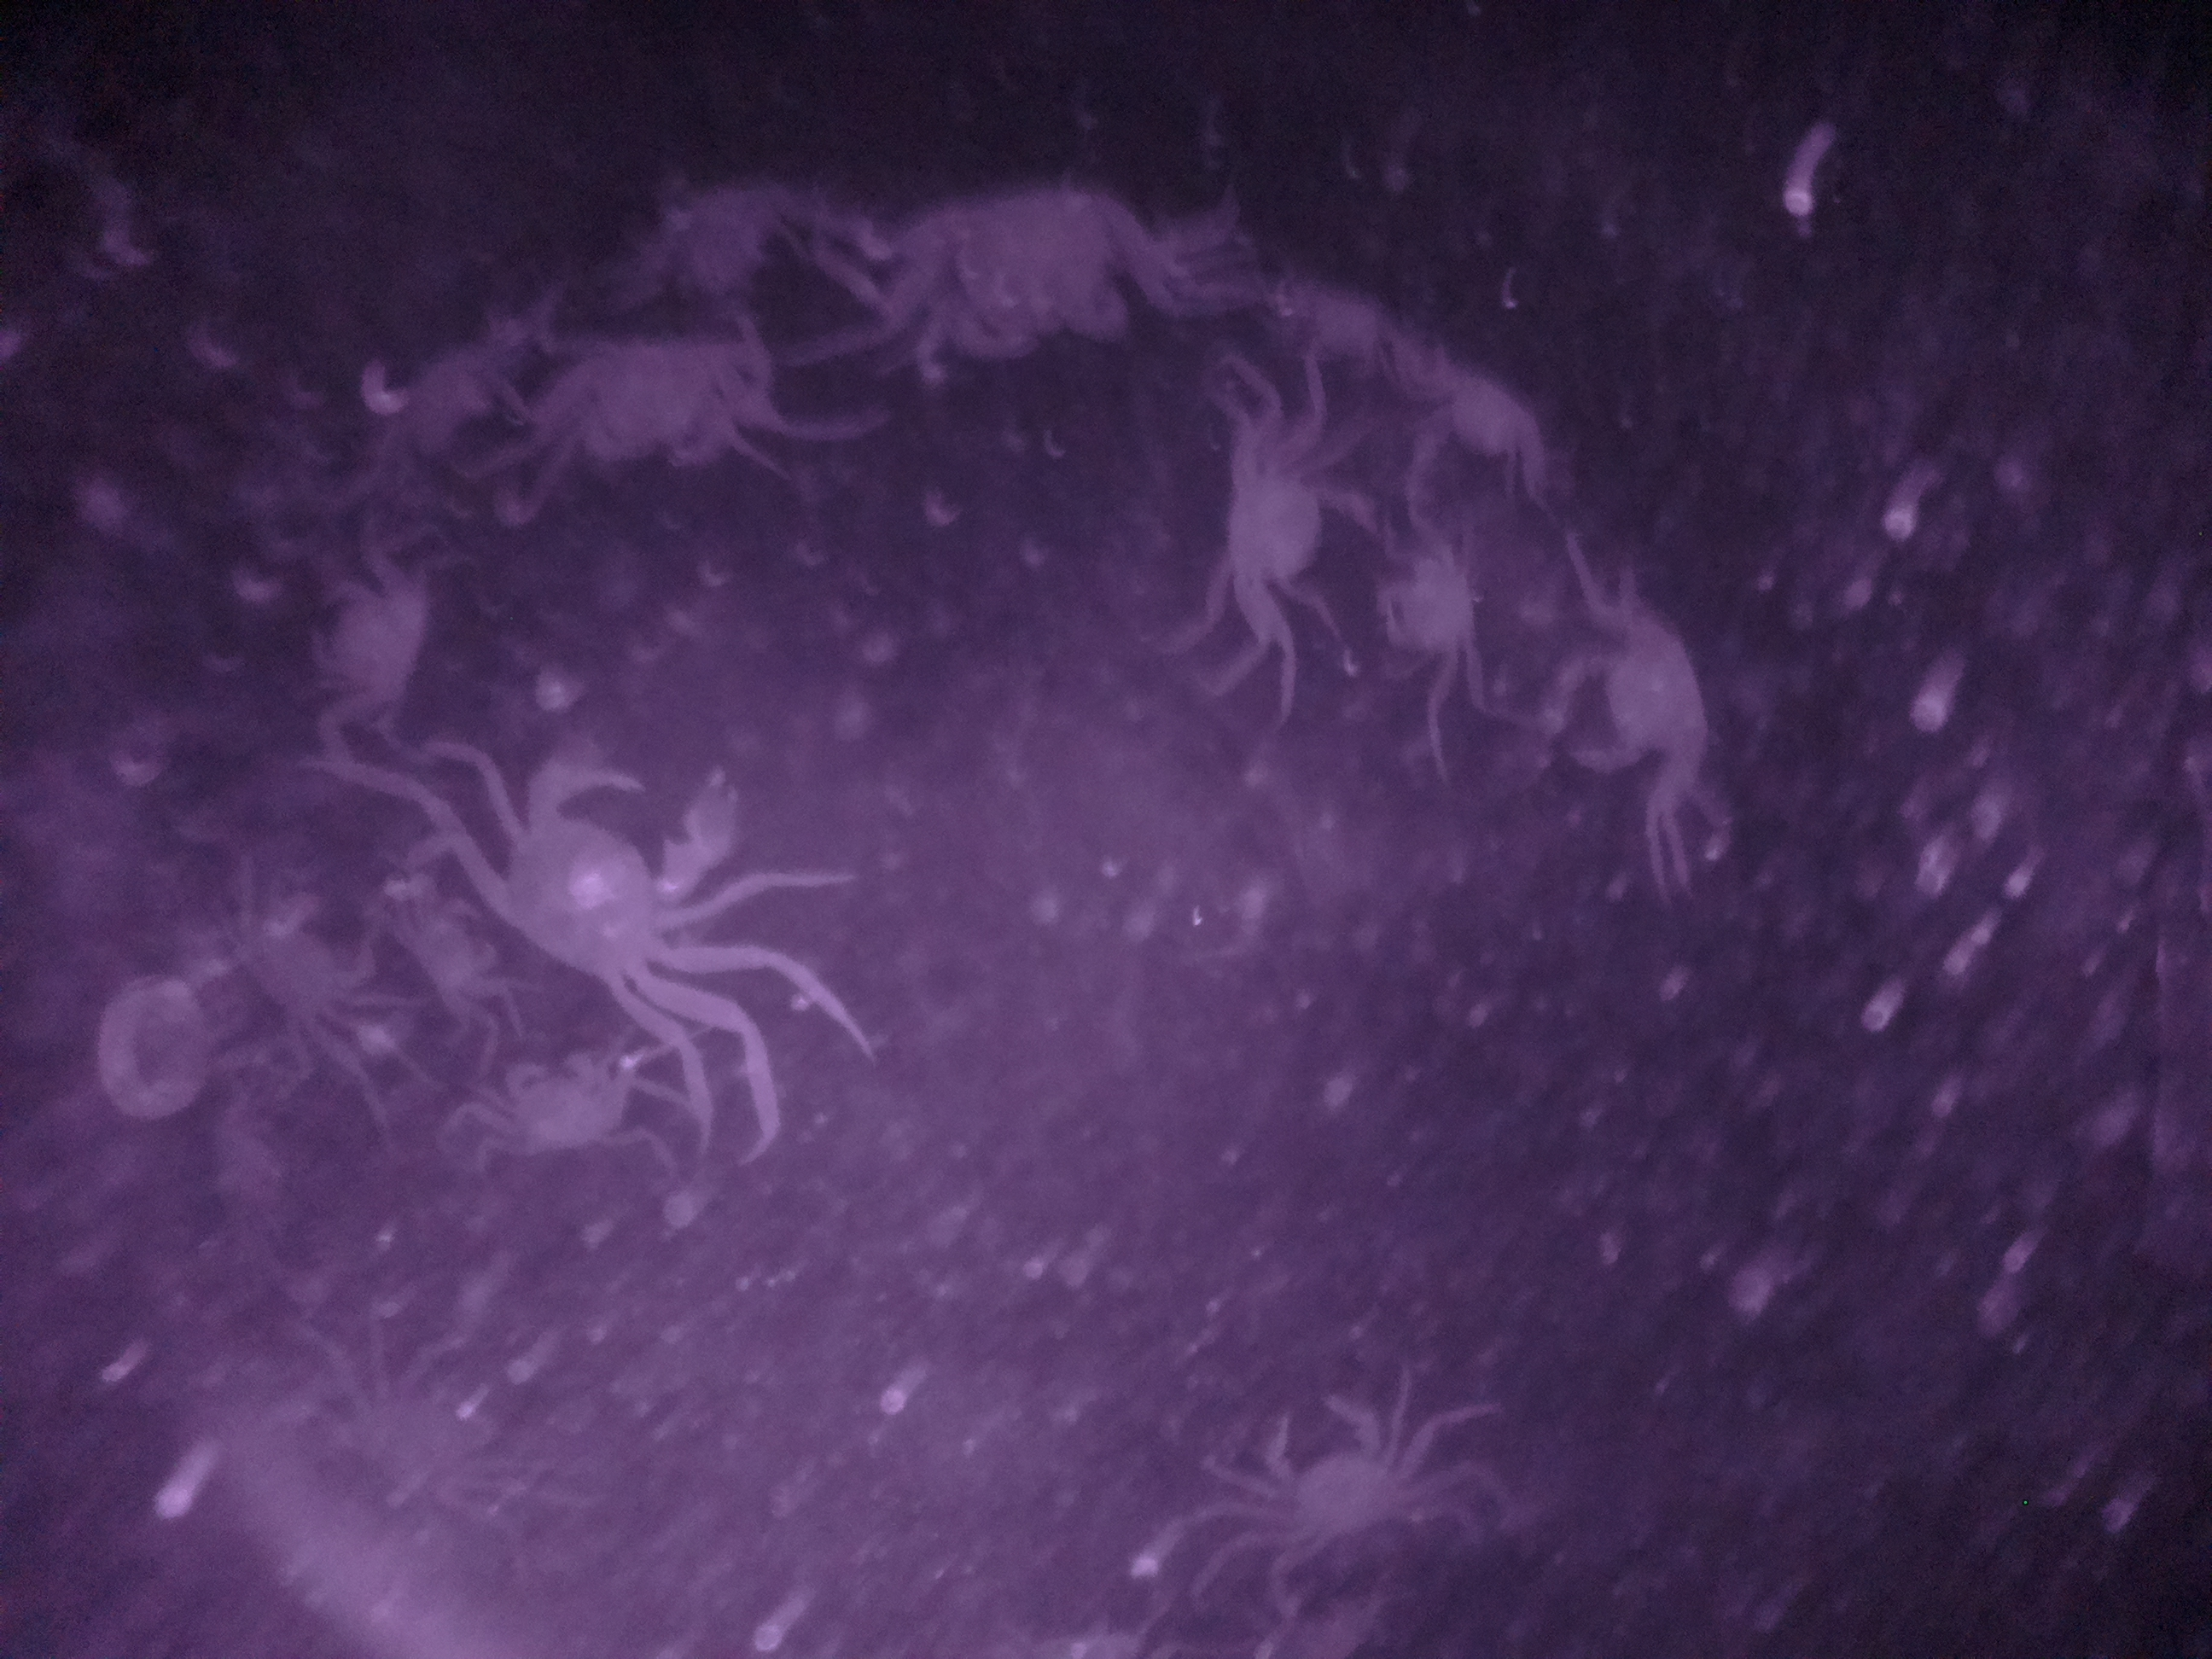Crab: (1221, 1382, 1435, 1567), (1547, 619, 1735, 793), (1200, 425, 1350, 622), (472, 1040, 648, 1175), (1352, 528, 1508, 676)
